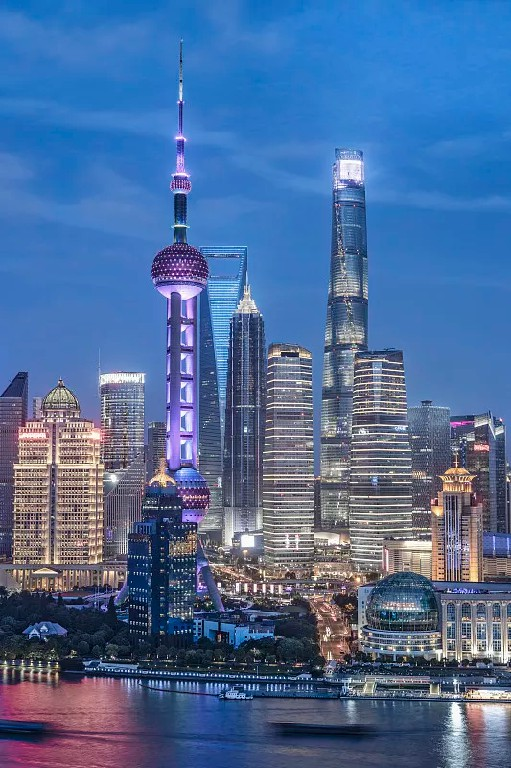Oriental: (151, 39, 224, 612)
